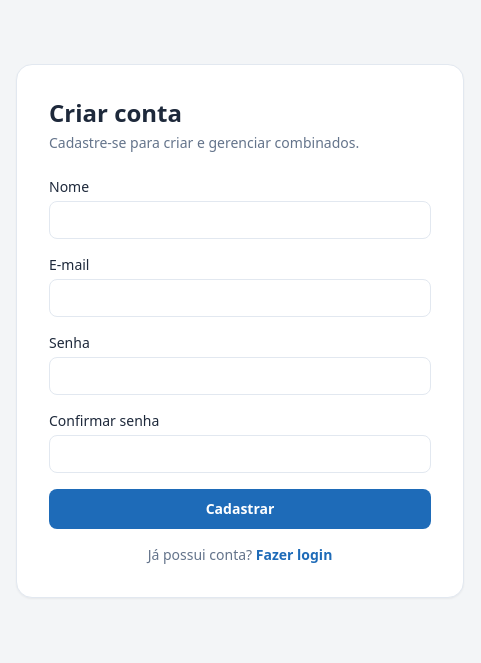
Test: homologação do cadastro — confirmação de senha e formulário › CA07 — apresenta mensagens de erro claras para dados inválidos
Click the submit button at (240, 509), box [49,489,431,529]
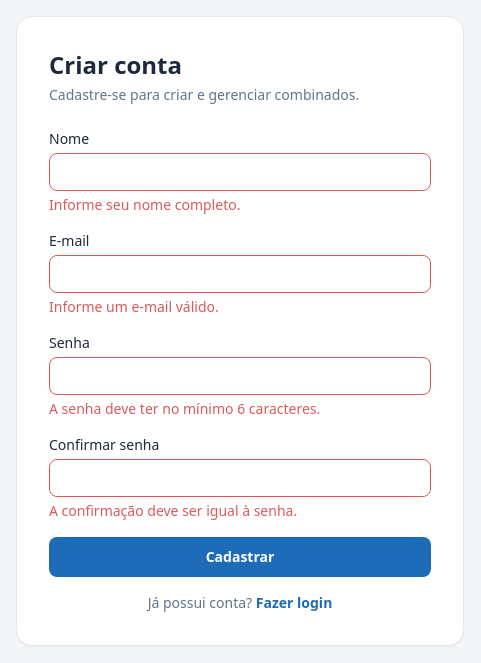
Expected: the text "Informe seu nome completo." is shown, [49,129,431,215]
Expected: the text "Informe um e-mail válido." is shown, [49,231,431,317]
Expected: the text "A senha deve ter no mínimo 6 caracteres." is shown, [49,333,431,419]
